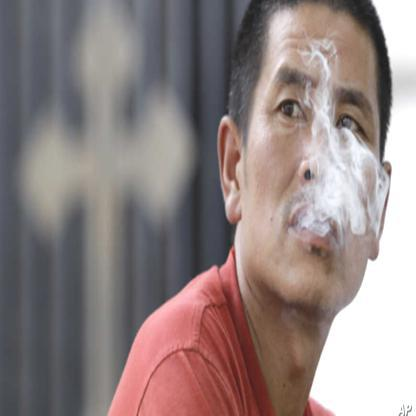person: (108, 0, 398, 415)
smoke: (310, 128, 388, 240), (306, 40, 336, 127)
